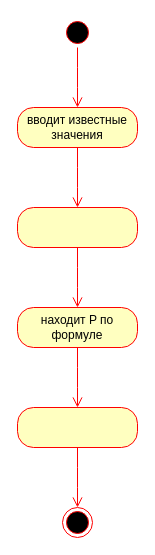
Some shapes in this 155 by 555 pixel diagram are drawn without their labels. Each missing label, with the centre of its shape:
"выводит значения на экран" goes at point 77,427.
"Находит S по формуле" goes at point 77,227.
